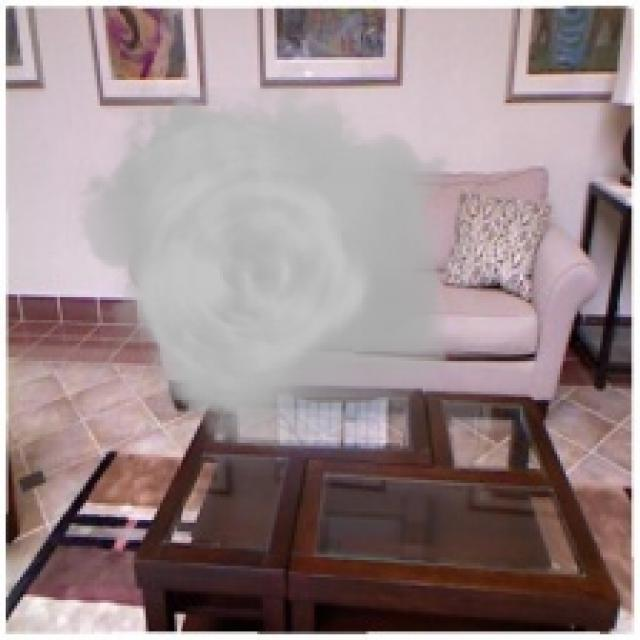Smoke: (66, 86, 468, 452)
